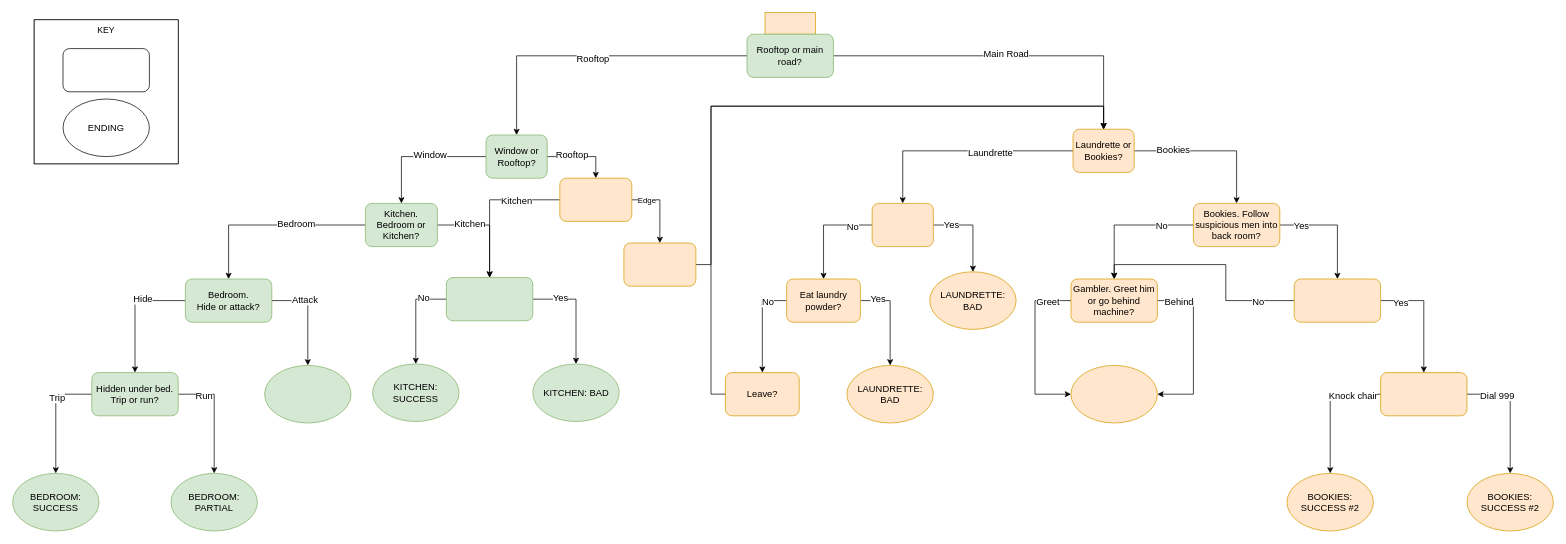
The diagram is 1566 pixels wide and 544 high, and some of its shapes have lost their labels. The box of each missing label's shape, as (x1, y1, x2, y2) in pixels:
BEDROOM: BAD: (264, 365, 351, 423)
BOOKIES: SUCCESS #1: (1070, 365, 1157, 423)
Curl up inside machine?: (871, 203, 933, 247)
DECISION: (62, 48, 149, 92)
How to foil their plan?: (1380, 372, 1467, 416)
Kitchen. Hide?: (446, 277, 533, 321)
Overhear plan to rob Laundrette. Get involved?: (1293, 278, 1381, 322)
Rooftop edge. Kitchen or Roof edge?: (623, 242, 696, 286)
Rooftop. Kitchen or Roof edge?: (559, 177, 632, 221)
Start: (764, 12, 815, 34)
